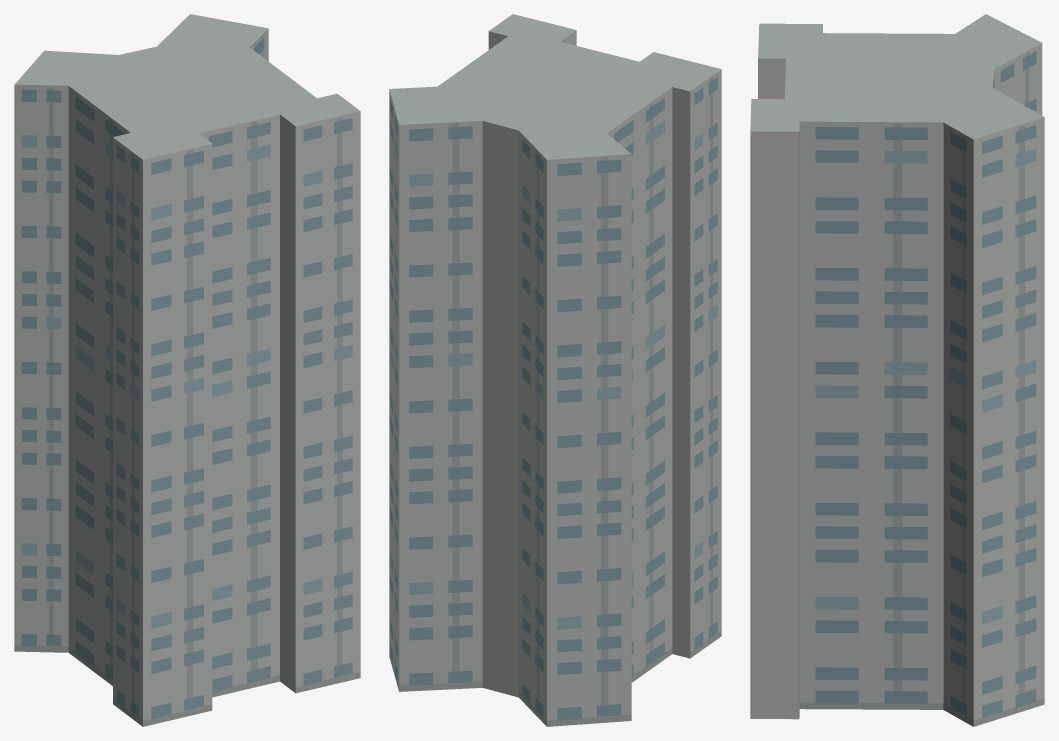
File: residential-e26f6f83-b89f-4d31-b499-fddbe472d8e1.glb
3 views of the same model, side by side, from view 1: azimuth 30°, elevation 25°; view 2: azimuth 150°, elevation 25°; view 3: azimuth 270°, elevation 25° (orthographic). The views are drawn at different scales.
Parts seen in each view (by area): view 1: residential-e26f6f83-b89f-4d31-b499-fddbe472d8e1.tmp; view 2: residential-e26f6f83-b89f-4d31-b499-fddbe472d8e1.tmp; view 3: residential-e26f6f83-b89f-4d31-b499-fddbe472d8e1.tmp.
Boxes of the visible parts, left/top/right/bottom form: residential-e26f6f83-b89f-4d31-b499-fddbe472d8e1.tmp: left=14, top=14, right=360, bottom=726; residential-e26f6f83-b89f-4d31-b499-fddbe472d8e1.tmp: left=389, top=14, right=721, bottom=726; residential-e26f6f83-b89f-4d31-b499-fddbe472d8e1.tmp: left=750, top=14, right=1044, bottom=726.
Size of the model in its own units: 38.5 by 84 by 38.16.
